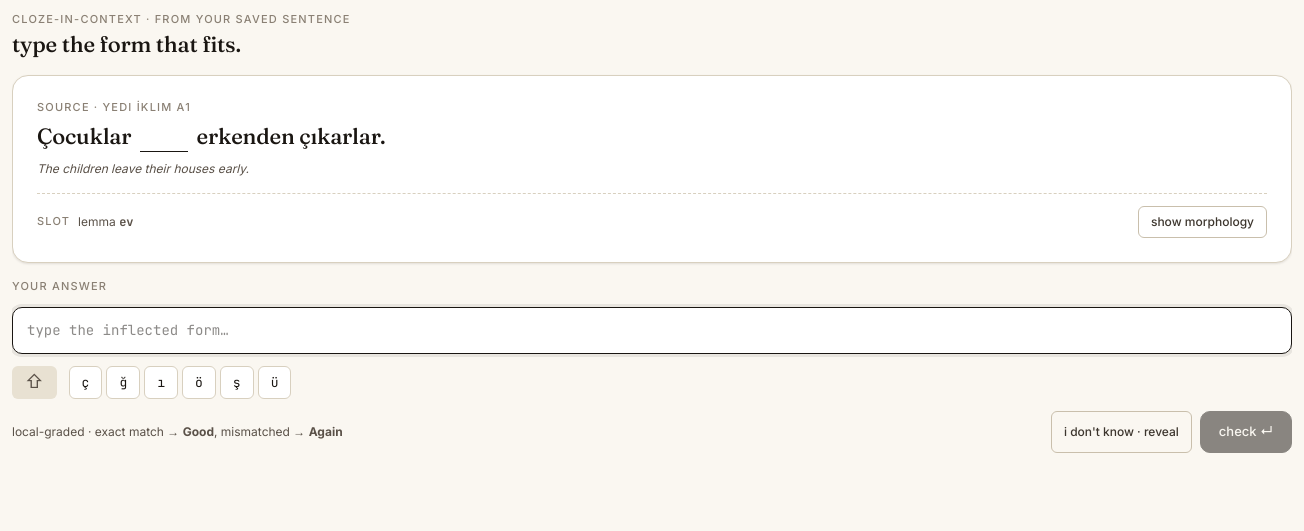
Test: ClozeItem morphology hint › reveals the morphology segments when toggled
The width and height of the screenshot is (1304, 531).
Click the button "show morphology": (1202, 222) [1138,206,1267,238]
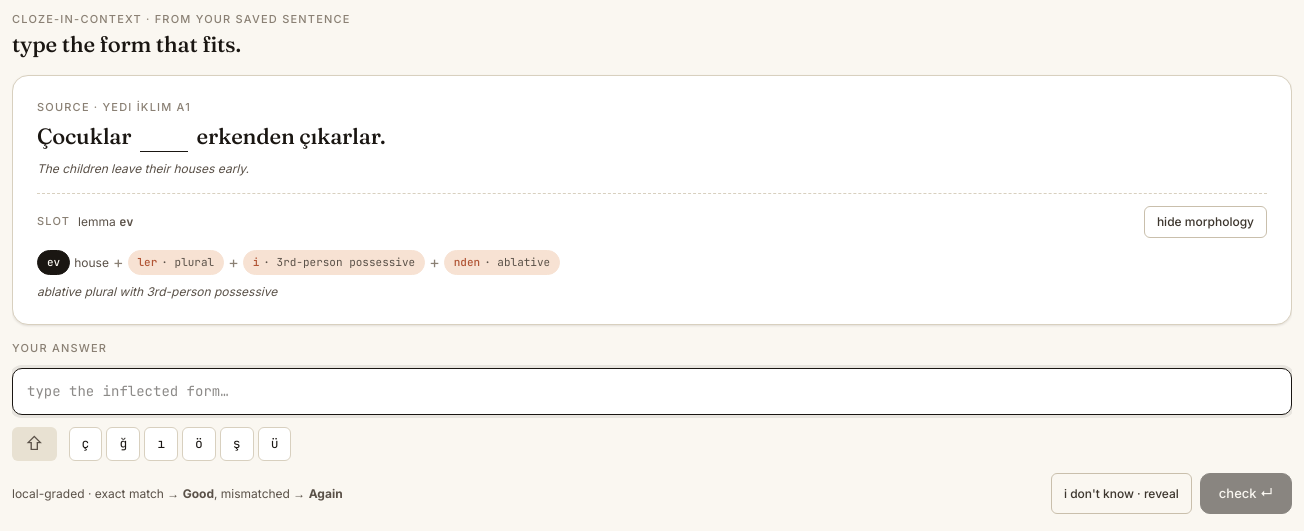
Expected: the text "ler" is shown, [138,255,157,269]
Expected: the text "nden" is shown, [454,255,480,269]
Expected: the text "ablative plural with 3rd-person possessive" is shown, [37,284,277,299]
